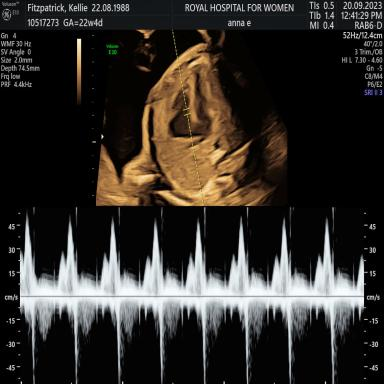Ultrasound-Waves: (25, 206, 363, 384)
